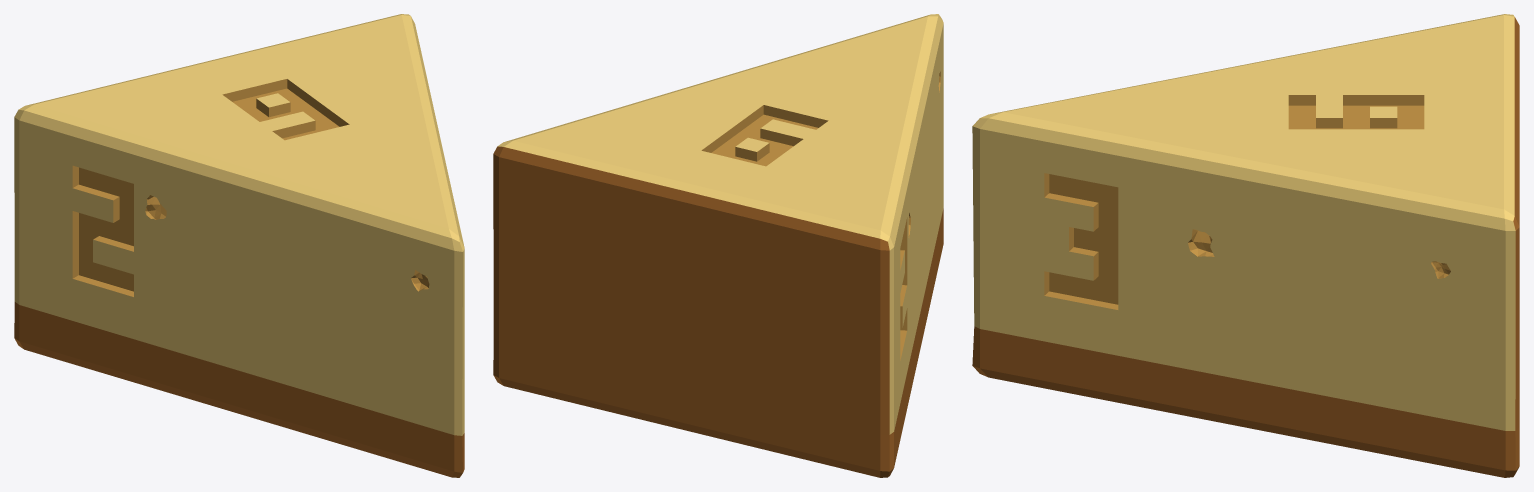
Rendered from Die_Parmesan_d4_Lucky9.fbx.
3 views of the same model, side by side, from view 1: azimuth 30°, elevation 25°; view 2: azimuth 150°, elevation 25°; view 3: azimuth 270°, elevation 25° (orthographic). The views are drawn at different scales.
Visible parts, largest first — view 1: Die_Parmesan_d4_Lucky9; view 2: Die_Parmesan_d4_Lucky9; view 3: Die_Parmesan_d4_Lucky9.
Part boxes in pixels (<box>): Die_Parmesan_d4_Lucky9: <box>14,14,464,477</box>; Die_Parmesan_d4_Lucky9: <box>493,14,943,477</box>; Die_Parmesan_d4_Lucky9: <box>972,14,1519,477</box>.
Bounding box in the file's own units: 1.29 × 0.7644 × 1.42.
